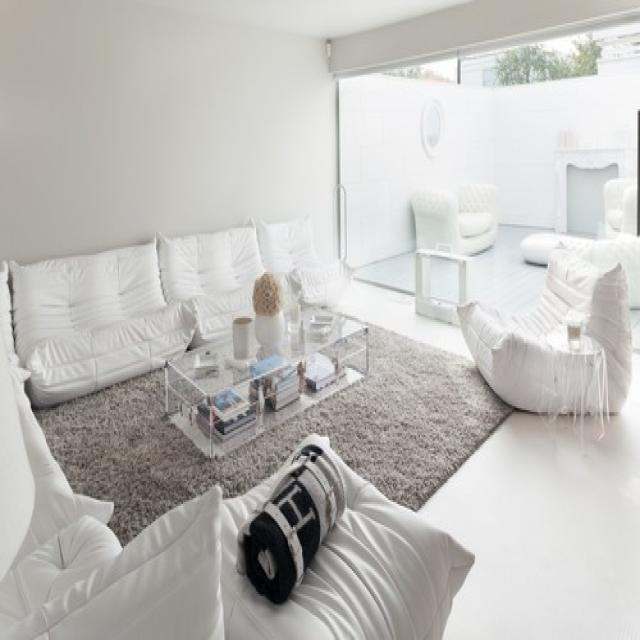white chair: (464, 225, 640, 437)
